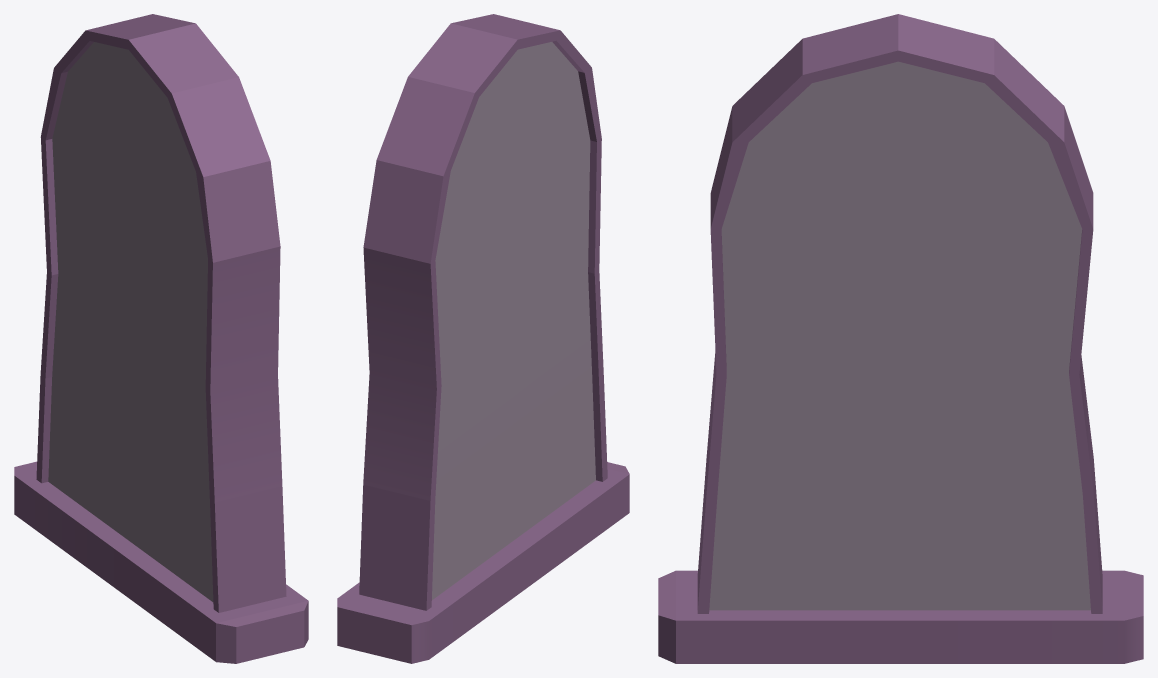
File: Grave2.fbx
3 renders of one model, left to right at view 1: azimuth 30°, elevation 25°; view 2: azimuth 150°, elevation 25°; view 3: azimuth 270°, elevation 25°, orthographic. The views are drawn at different scales.
Visible parts, largest first — view 1: pCylinder3; view 2: pCylinder3; view 3: pCylinder3.
Boxes of the visible parts, <box> form: pCylinder3: <box>14,14,308,663</box>; pCylinder3: <box>337,14,629,663</box>; pCylinder3: <box>658,14,1143,663</box>.
Size of the model in its own units: 0.5846 by 3.3 by 2.39.
